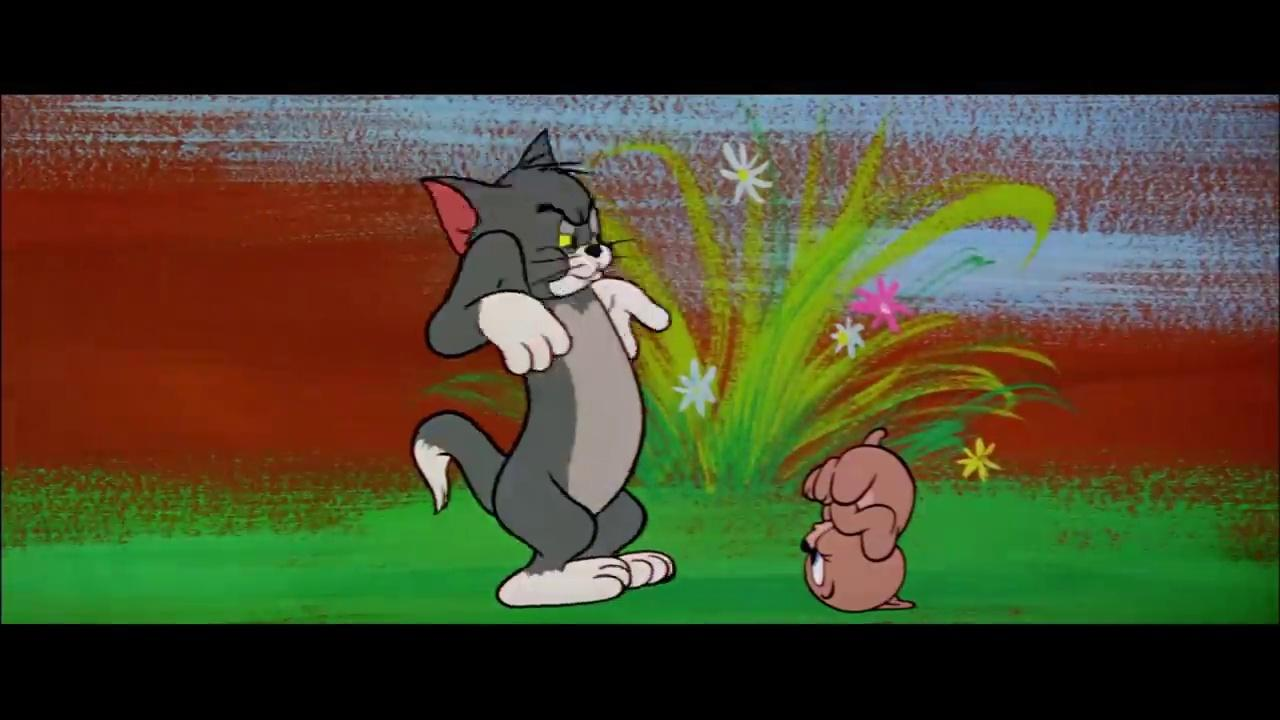Tom: (411, 125, 679, 607)
